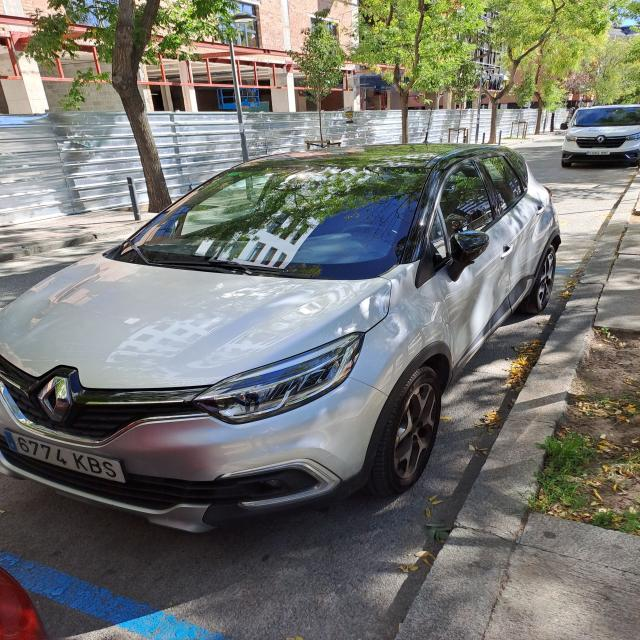license_plate-34Td: (4, 430, 125, 482)
